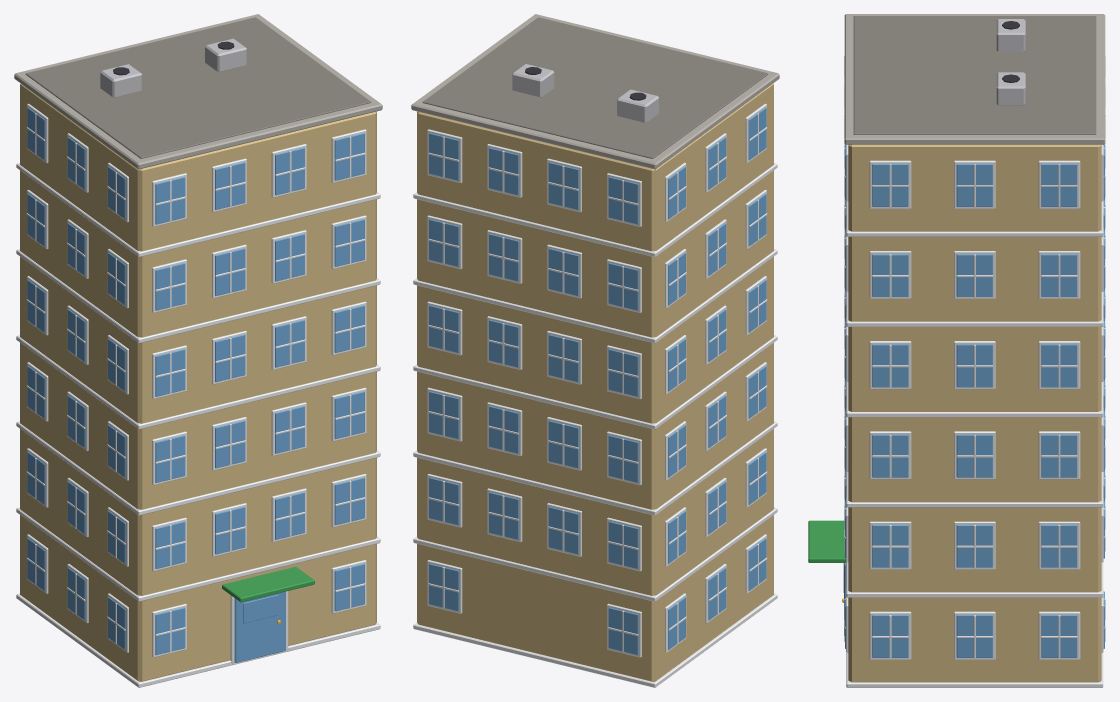
The model's file is TallApartment.fbx.
3 views of the same model, side by side, from view 1: azimuth 30°, elevation 25°; view 2: azimuth 150°, elevation 25°; view 3: azimuth 270°, elevation 25° (orthographic). The views are drawn at different scales.
Visible parts, largest first — view 1: TallApartment; view 2: TallApartment; view 3: TallApartment.
Boxes of the visible parts, box(x1,y1,x2,y2) form: TallApartment: box(14, 14, 382, 687); TallApartment: box(411, 14, 779, 687); TallApartment: box(808, 14, 1105, 687).
Bounding box in the file's own units: 16.44 × 34.82 × 16.42.
1 material, 1 textured.
